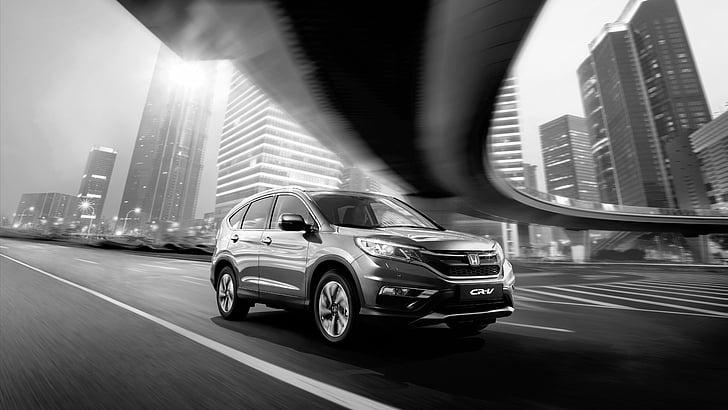Car hood: (335, 226, 505, 252)
Driver-s door - -F-R-: (258, 189, 321, 298)
Fender - -F-R-: (303, 219, 364, 307)
Fender - -R-R-: (211, 224, 235, 267)
Front bumper: (356, 254, 519, 326)
Headlight - -L-: (487, 235, 508, 263)
Headlight - -R-: (349, 230, 431, 267)
Passenger-s door - -R-R-: (225, 188, 273, 293)
Rear bumper: (205, 250, 228, 288)
Side bumper - -R-: (231, 282, 316, 312)
Side mirror - -R-: (275, 209, 313, 236)
